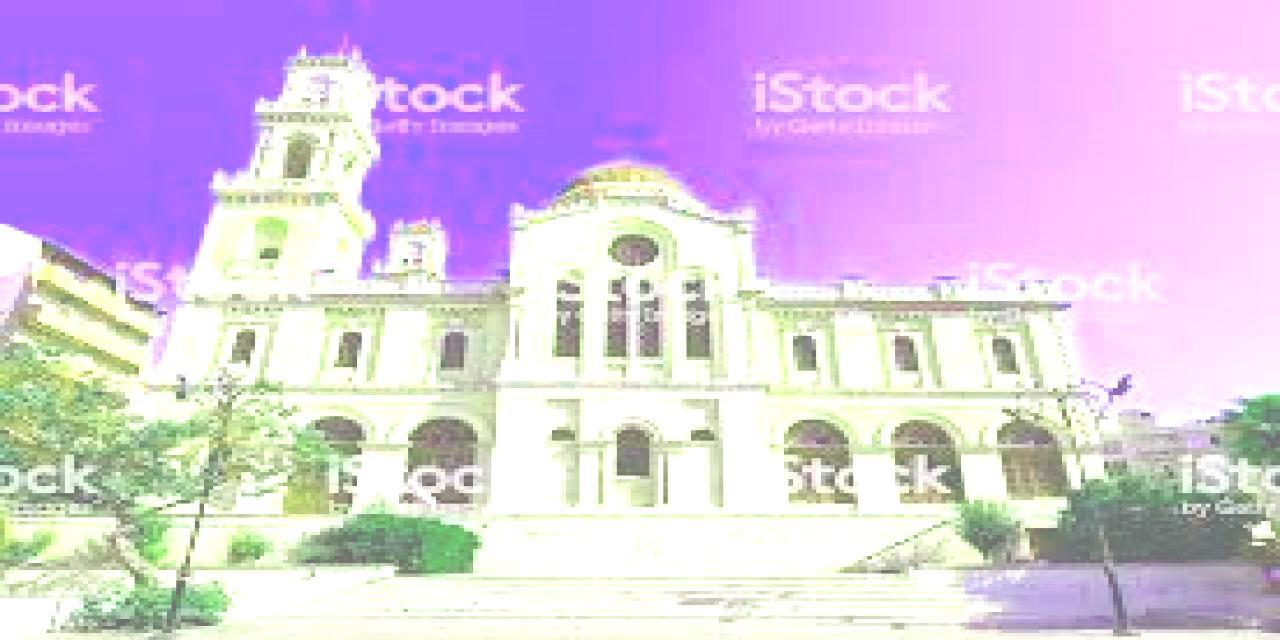Agios Minas: (124, 35, 1118, 570)
